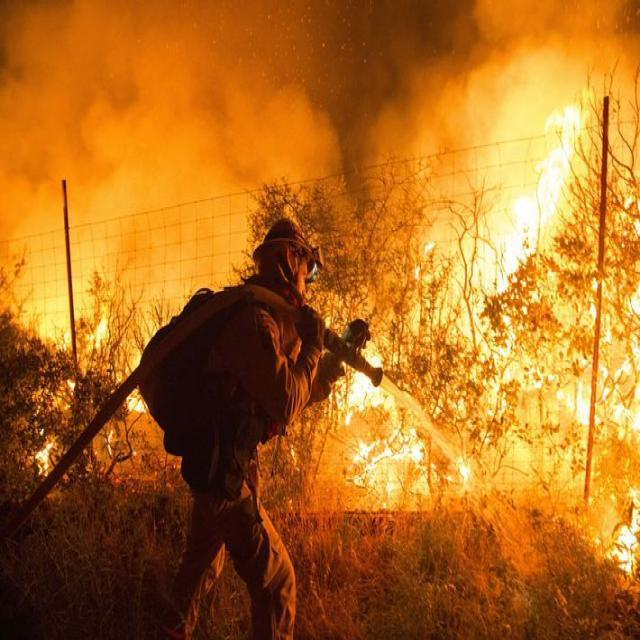Smoke: (0, 0, 372, 349), (363, 0, 639, 315)
